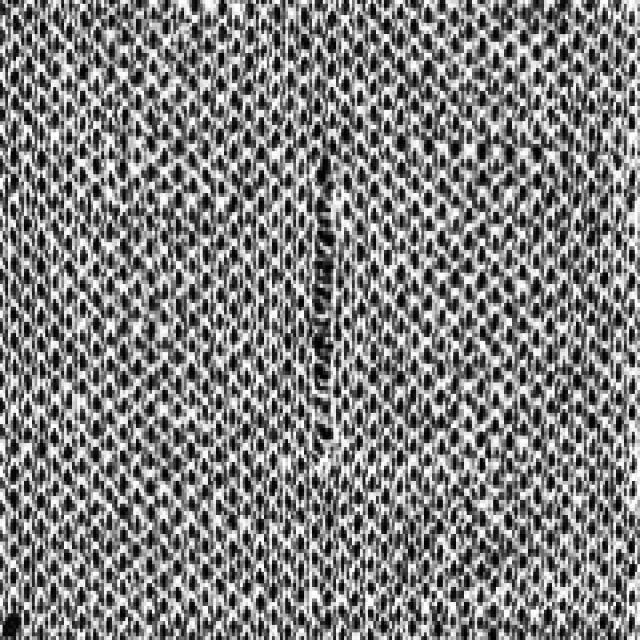Hole: (296, 126, 351, 498)
